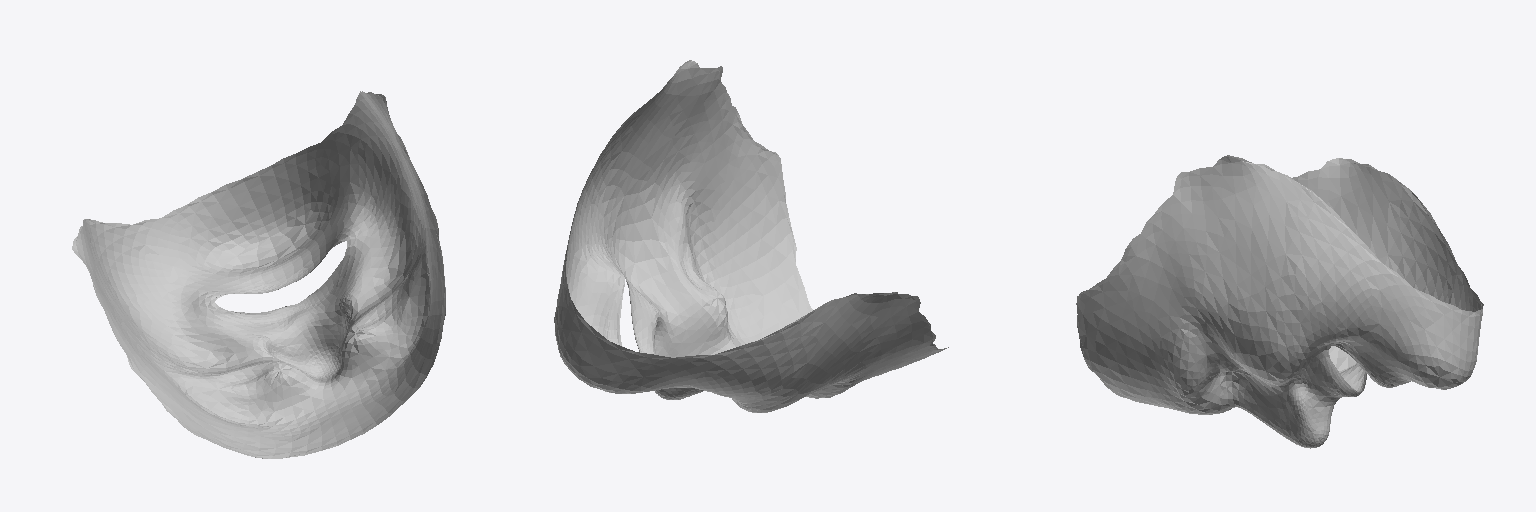
The model's file is face_gab_sfm101.obj.
The picture shows the model from 3 angles: view 1: azimuth 30°, elevation 25°; view 2: azimuth 150°, elevation 25°; view 3: azimuth 270°, elevation 25°; orthographic projection.
Bounding box in the file's own units: 172 × 159 × 194.